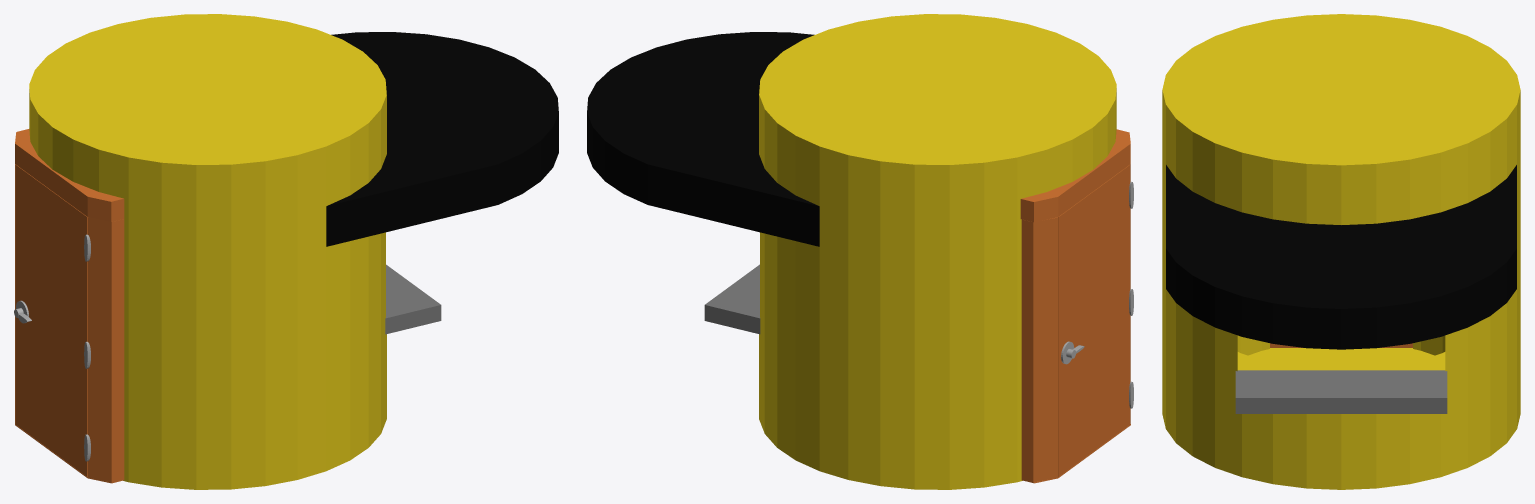
Rendered from KioskiV4.fbx.
3 views of the same model, side by side, from view 1: azimuth 30°, elevation 25°; view 2: azimuth 150°, elevation 25°; view 3: azimuth 270°, elevation 25° (orthographic).
Parts seen in each view (by area): view 1: Cylinder, Cube.003, Cube.005, Cube.006, Cube.012; view 2: Cylinder, Cube.003, Cube.002, Cube.006, Cube.012; view 3: Cylinder, Cube.012.
Part boxes in pixels (x1,y1,x2,y2): Cylinder: (29, 14, 558, 489); Cube.003: (15, 164, 87, 476); Cube.005: (87, 217, 124, 482); Cube.006: (15, 129, 124, 221); Cube.012: (385, 264, 441, 334); Cylinder: (587, 14, 1116, 489); Cube.003: (1058, 165, 1130, 476); Cube.002: (1021, 217, 1058, 482); Cube.006: (1020, 129, 1130, 222); Cube.012: (704, 264, 760, 334); Cylinder: (1162, 14, 1520, 489); Cube.012: (1235, 370, 1447, 413).
Bounding box in the file's own units: 396 × 250 × 250.
